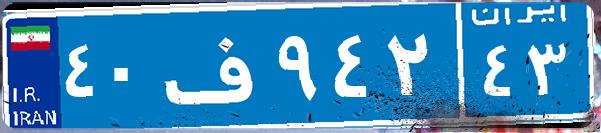0: (110, 28, 158, 105)
2: (385, 28, 445, 110)
3: (525, 38, 570, 115)
4: (330, 28, 385, 110), (57, 26, 110, 107), (475, 38, 525, 113)
9: (273, 28, 330, 110)
ف: (158, 15, 273, 115)
